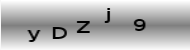9: (132, 18, 145, 32)
D: (50, 24, 68, 41)
Z: (74, 19, 92, 35)
j: (104, 6, 113, 25)
y: (25, 28, 43, 43)
